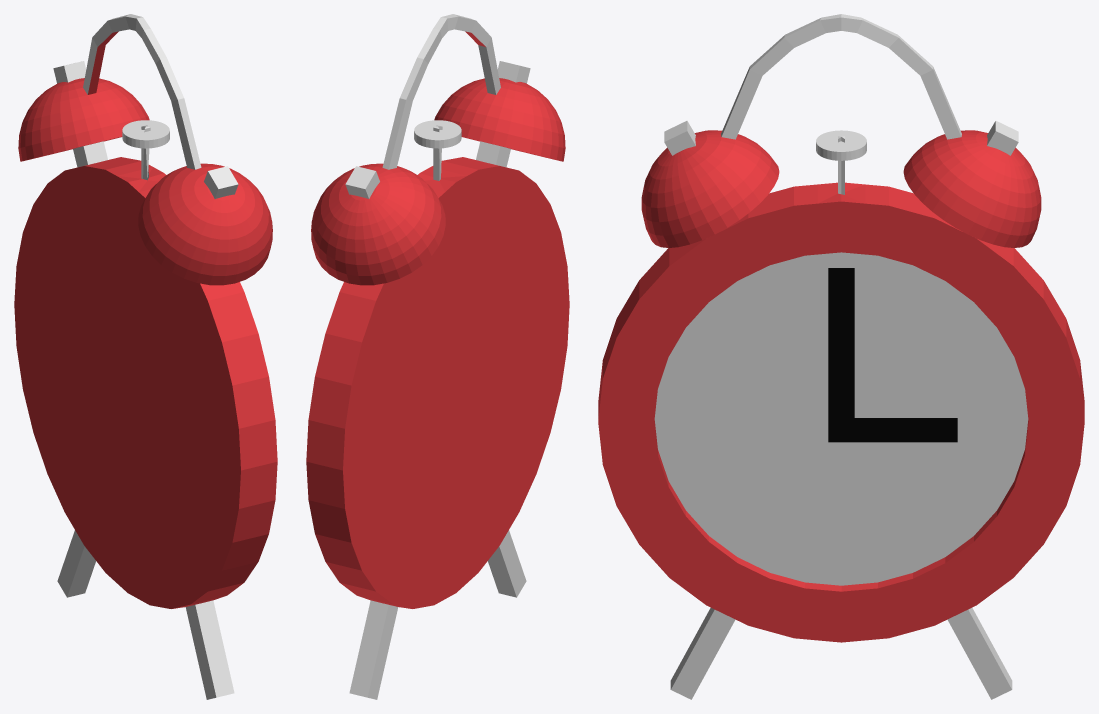
Rendered from clock.fbx.
The picture shows the model from 3 angles, left to right: view 1: azimuth 30°, elevation 25°; view 2: azimuth 150°, elevation 25°; view 3: azimuth 270°, elevation 25°; orthographic projection. The views are drawn at different scales.
Parts seen in each view (by area): view 1: clock; view 2: clock; view 3: clock.
Part boxes in pixels (x1,y1,x2,y2): clock: [14, 14, 277, 699]; clock: [306, 14, 569, 699]; clock: [598, 14, 1084, 699].
Bounding box in the file's own units: 78.58 × 399 × 260.
